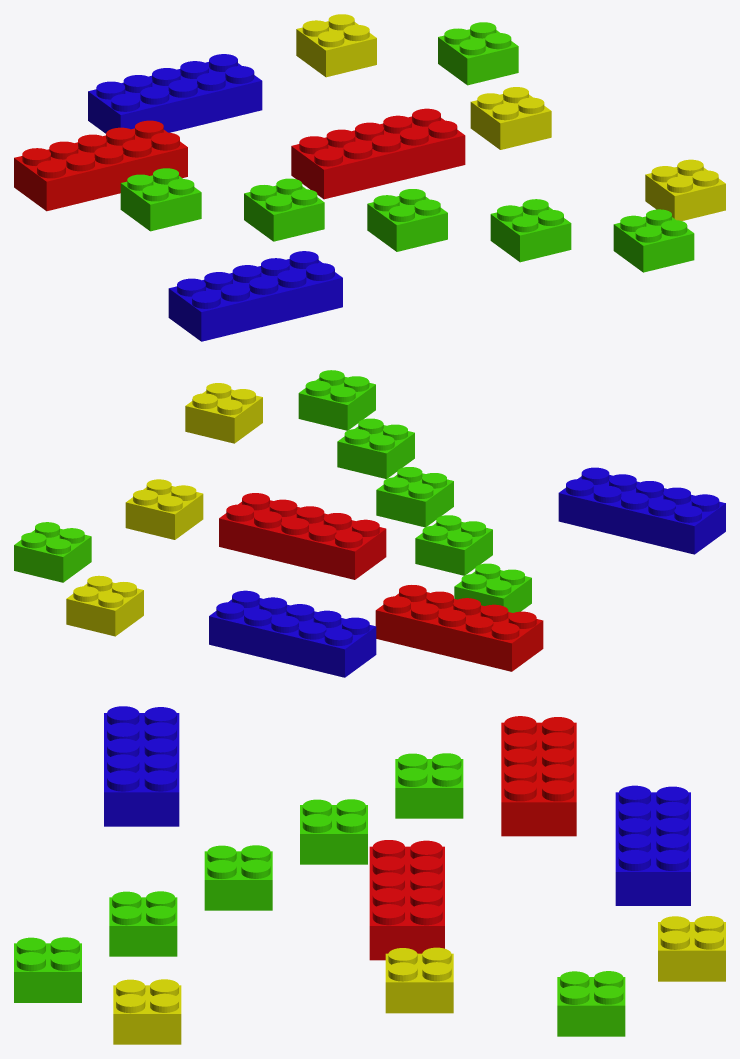
The model's file is Trap.fbx.
The picture shows the model from 3 angles, top to bottom: view 1: azimuth 30°, elevation 25°; view 2: azimuth 150°, elevation 25°; view 3: azimuth 270°, elevation 25°; orthographic projection. The views are drawn at different scales.
Parts seen in each view (by area): view 1: Cube.001, Cube.003, Cube.006, Cube.004, Cube.005, Cube.002; view 2: Cube.001, Cube.003, Cube.006, Cube.005, Cube.004, Cube.002; view 3: Cube.003, Cube.001, Cube.006, Cube.005, Cube.004, Cube.002.
Boxes of the visible parts, x1=… form: Cube.001: x1=88, y1=54, x2=342, y2=341; Cube.003: x1=120, y1=168, x2=694, y2=272; Cube.006: x1=296, y1=14, x2=725, y2=220; Cube.004: x1=291, y1=108, x2=465, y2=199; Cube.005: x1=14, y1=120, x2=187, y2=211; Cube.002: x1=438, y1=22, x2=518, y2=85; Cube.001: x1=209, y1=467, x2=725, y2=677; Cube.003: x1=298, y1=370, x2=531, y2=612; Cube.006: x1=66, y1=383, x2=262, y2=636; Cube.005: x1=375, y1=585, x2=543, y2=671; Cube.004: x1=219, y1=493, x2=386, y2=579; Cube.002: x1=14, y1=522, x2=91, y2=582; Cube.003: x1=14, y1=753, x2=463, y2=1002; Cube.001: x1=104, y1=706, x2=690, y2=905; Cube.006: x1=113, y1=916, x2=725, y2=1044; Cube.005: x1=501, y1=716, x2=576, y2=836; Cube.004: x1=369, y1=840, x2=444, y2=960; Cube.002: x1=557, y1=971, x2=625, y2=1036.
Bounding box in the file's own units: 536 × 35.03 × 542.
